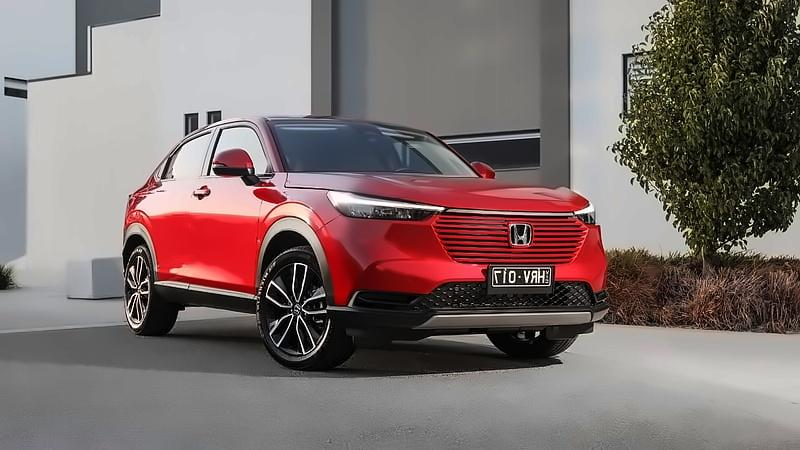Car hood: (283, 169, 597, 216)
Driver-s door - -F-R-: (191, 117, 260, 302)
Fender - -F-R-: (254, 165, 342, 304)
Fender - -R-R-: (128, 195, 150, 254)
Front bumper: (311, 215, 616, 336)
Headlight - -L-: (571, 199, 601, 226)
Headlight - -R-: (323, 185, 449, 227)
Passenger-s door - -R-R-: (144, 121, 212, 300)
Side bumper - -R-: (149, 278, 262, 318)
Side mirror - -L-: (463, 157, 500, 183)
Side mirror - -R-: (211, 145, 261, 189)
